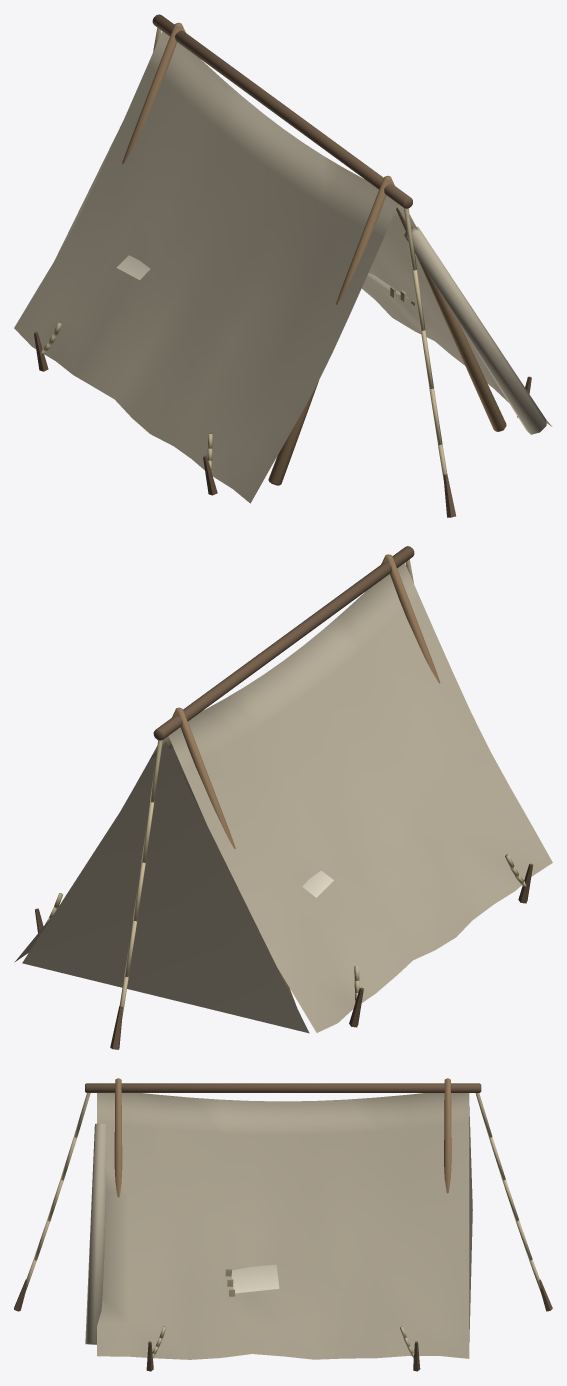
Rendered from tent_a.glb.
The picture shows the model from 3 angles, top to bottom: view 1: azimuth 30°, elevation 25°; view 2: azimuth 150°, elevation 25°; view 3: azimuth 270°, elevation 25°; orthographic projection. The views are drawn at different scales.
Visible parts, largest first — view 1: tent_a; view 2: tent_a; view 3: tent_a.
Boxes of the visible parts, box(x1,y1,x2,y2) form: tent_a: box(14, 14, 552, 517); tent_a: box(14, 546, 552, 1049); tent_a: box(14, 1078, 552, 1371).
Size of the model in its own units: 2.45 by 2.1 by 4.42.
